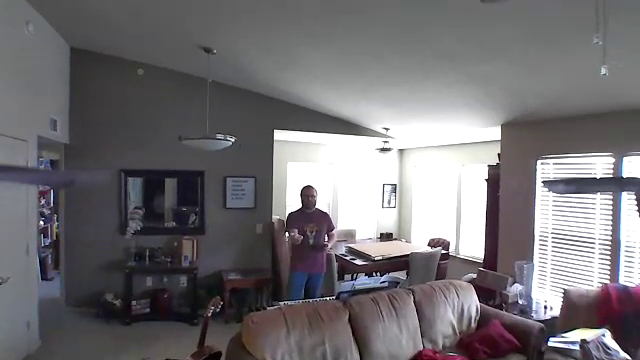land: (285, 230, 305, 246)
